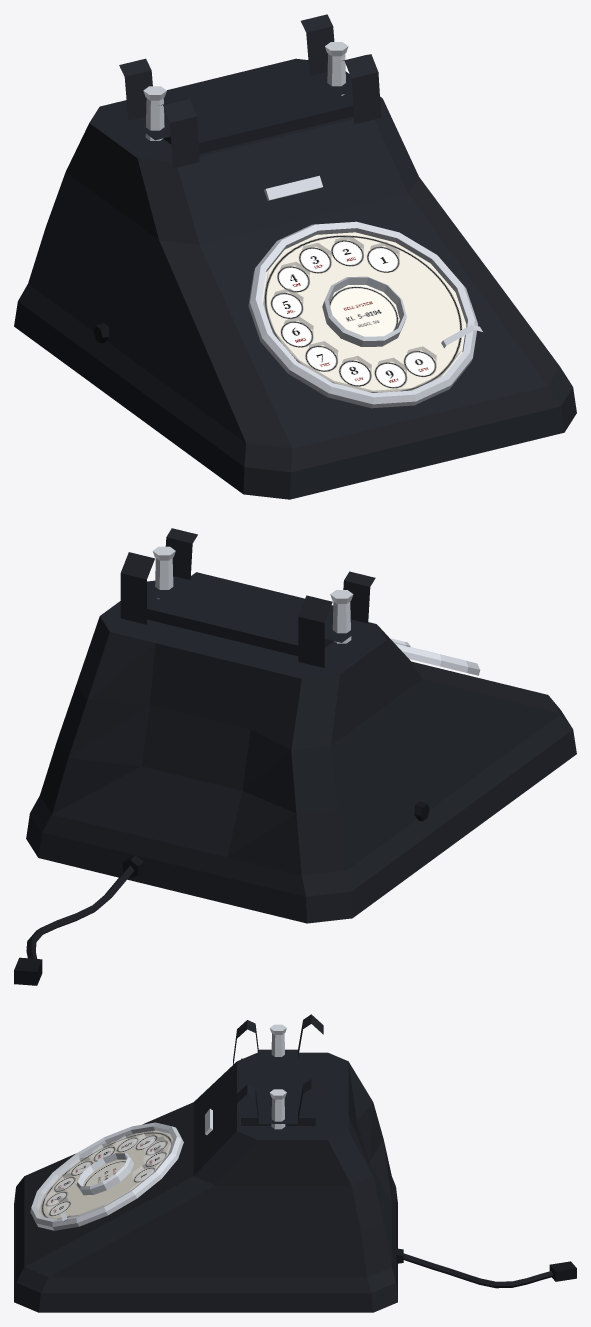
File: telephone-base-balanced-jet.glb
3 renders of one model, top to bottom at view 1: azimuth 30°, elevation 25°; view 2: azimuth 150°, elevation 25°; view 3: azimuth 270°, elevation 25°, orthographic. The views are drawn at different scales.
Visible parts, largest first — view 1: Base_Bakelite_Body, Dial_Number_Faceplate, Base_Chrome_Trim, Dial_Finger_Wheel, Switchhook_Plungers_Merged; view 2: Base_Bakelite_Body, Switchhook_Plungers_Merged, Wall_Line_Cable, Base_Chrome_Trim, Wall_Plug_And_Grommet; view 3: Base_Bakelite_Body, Dial_Number_Faceplate, Base_Chrome_Trim, Dial_Finger_Wheel, Wall_Line_Cable, Switchhook_Plungers_Merged, Wall_Plug_And_Grommet.
Part boxes in pixels (left/top/right/bottom): Base_Bakelite_Body: left=14, top=14, right=576, bottom=499; Dial_Number_Faceplate: left=262, top=232, right=466, bottom=392; Base_Chrome_Trim: left=248, top=175, right=482, bottom=408; Dial_Finger_Wheel: left=263, top=236, right=460, bottom=392; Switchhook_Plungers_Merged: left=143, top=42, right=348, bottom=140; Base_Bakelite_Body: left=26, top=528, right=576, bottom=923; Switchhook_Plungers_Merged: left=152, top=546, right=353, bottom=643; Wall_Line_Cable: left=26, top=865, right=134, bottom=958; Base_Chrome_Trim: left=390, top=638, right=480, bottom=675; Wall_Plug_And_Grommet: left=14, top=855, right=143, bottom=985; Base_Bakelite_Body: left=14, top=1014, right=397, bottom=1312; Dial_Number_Faceplate: left=38, top=1130, right=172, bottom=1219; Base_Chrome_Trim: left=30, top=1109, right=212, bottom=1230; Dial_Finger_Wheel: left=43, top=1131, right=171, bottom=1219; Wall_Line_Cable: left=403, top=1253, right=552, bottom=1288; Switchhook_Plungers_Merged: left=269, top=1024, right=286, bottom=1129; Wall_Plug_And_Grommet: left=396, top=1248, right=576, bottom=1281.
Bounding box in the file's own units: 0.136 × 0.114 × 0.2726.
Materials: 8 (1 with a texture image).
